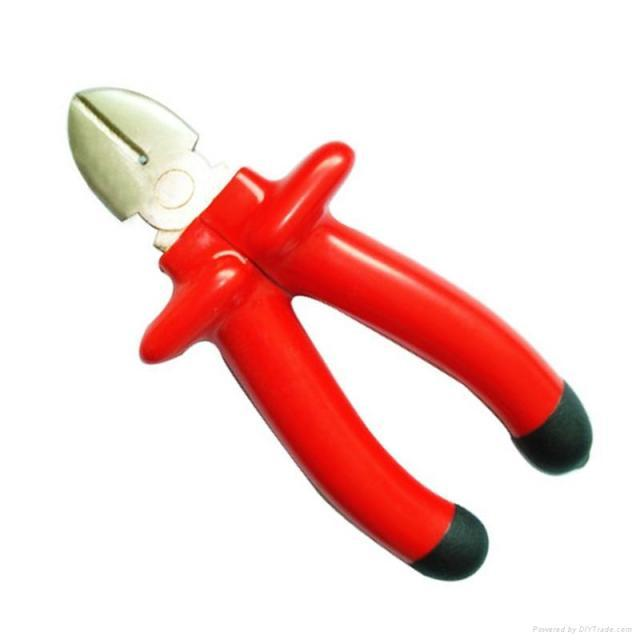pliers: (60, 75, 600, 589)
